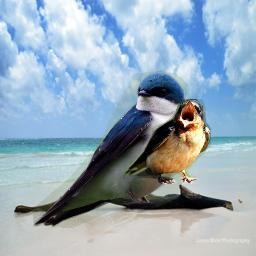Swallow: (33, 71, 196, 228), (123, 99, 211, 184)
